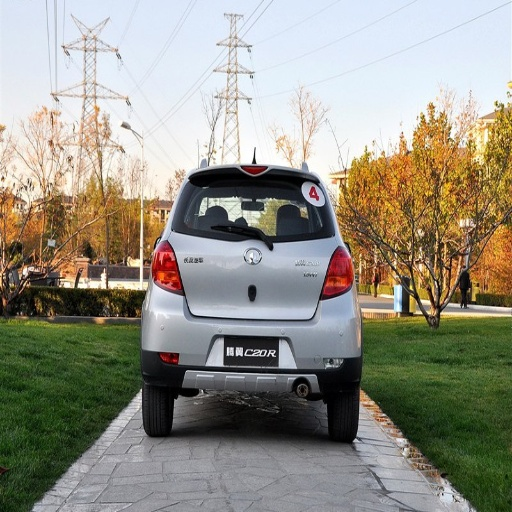back_bumper: (144, 284, 362, 393)
trunk: (174, 235, 335, 322)
